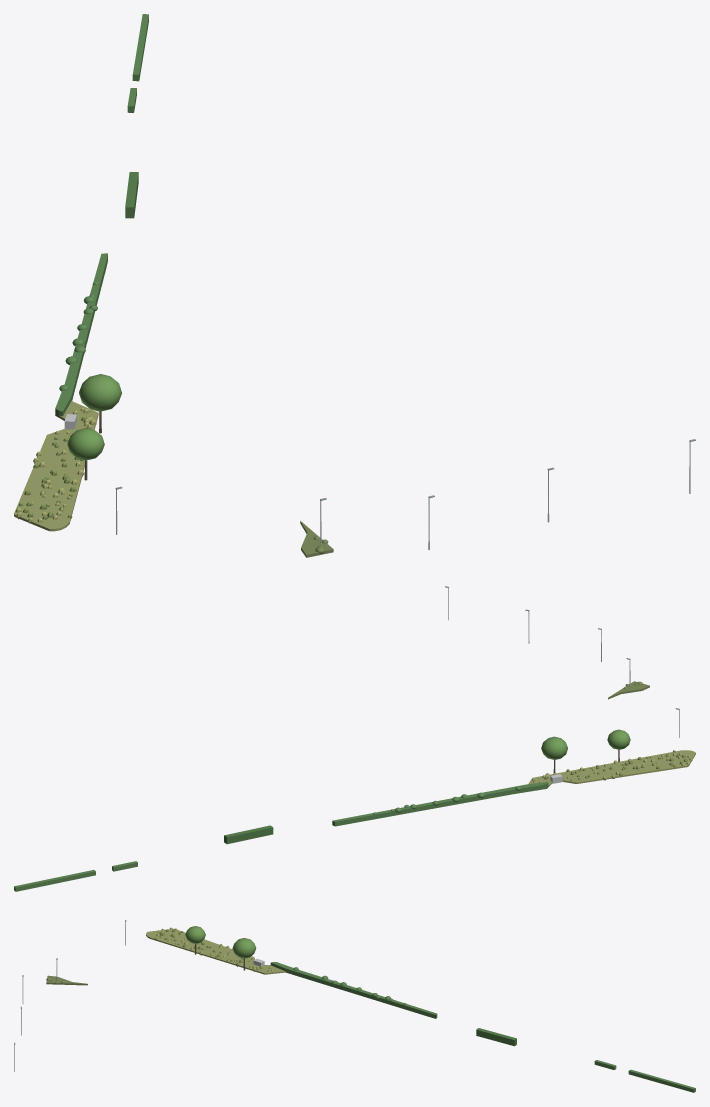
Rendered from shrubGroup.glb.
The picture shows the model from 3 angles, top to bottom: view 1: azimuth 30°, elevation 25°; view 2: azimuth 150°, elevation 25°; view 3: azimuth 270°, elevation 25°; orthographic projection. The views are drawn at different scales.
Visible parts, largest first — view 1: shrubGroup; view 2: shrubGroup; view 3: shrubGroup.
Boxes of the visible parts, <box> form: shrubGroup: <box>14,14,695,557</box>; shrubGroup: <box>14,586,695,891</box>; shrubGroup: <box>14,920,695,1092</box>.
Size of the model in its own units: 97.16 by 8.9 by 172.
